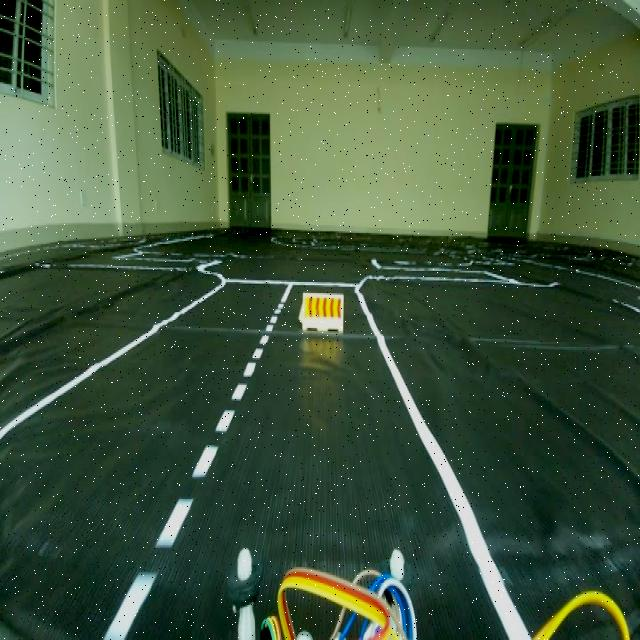roadblock: (296, 284, 356, 352)
